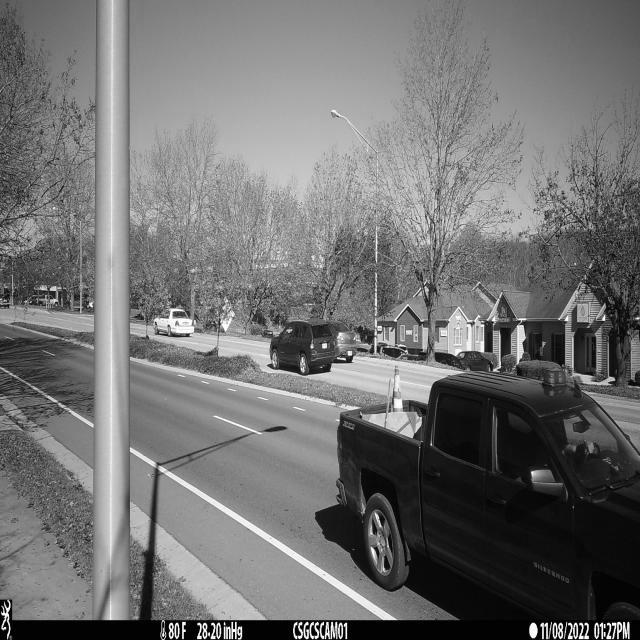Pickup: (337, 370, 640, 640)
